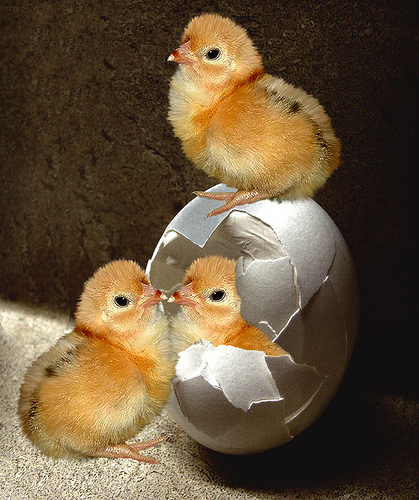egg: (145, 181, 357, 455)
